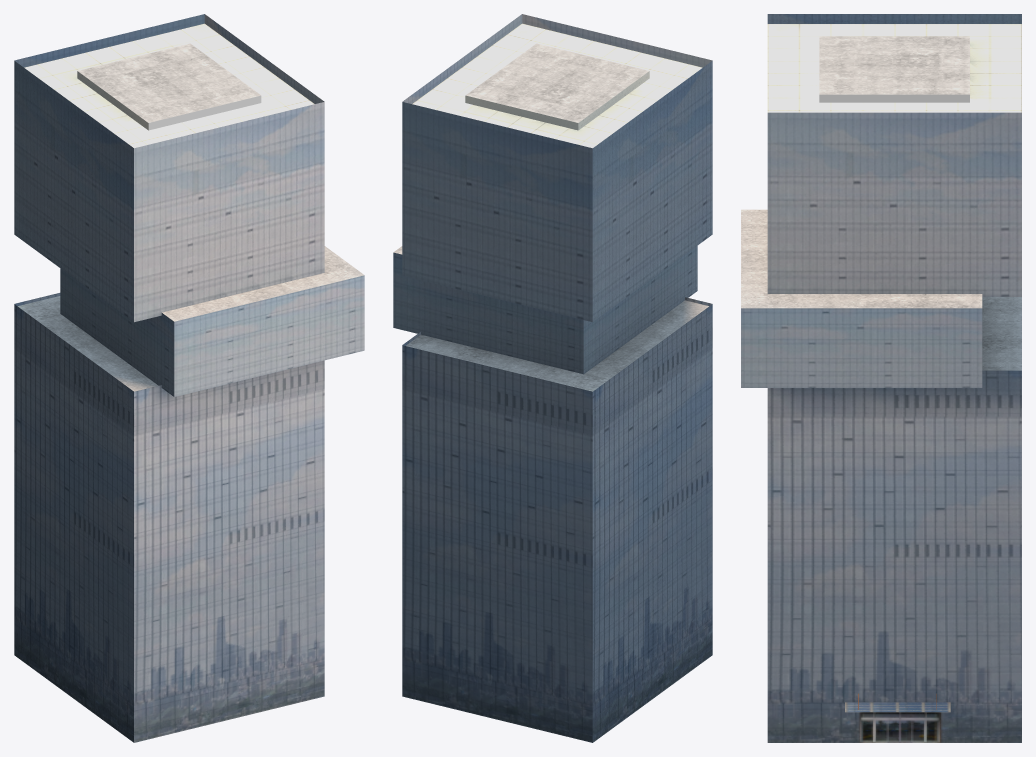
Rendered from 1A office.obj.
The picture shows the model from 3 angles, left to right: view 1: azimuth 30°, elevation 25°; view 2: azimuth 150°, elevation 25°; view 3: azimuth 270°, elevation 25°; orthographic projection. The views are drawn at different scales.
Visible parts, largest first — view 1: 1A_office; view 2: 1A_office; view 3: 1A_office.
Boxes of the visible parts, bbox=[...] form: 1A_office: bbox=[14, 14, 364, 742]; 1A_office: bbox=[393, 14, 712, 742]; 1A_office: bbox=[741, 14, 1021, 742].
Size of the model in its own units: 48.5 by 126 by 50.98.
1 material, 1 textured.
